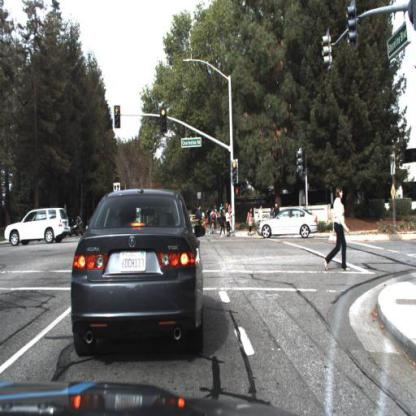biker: (206, 206, 220, 237), (272, 202, 282, 223)
car: (70, 185, 207, 361), (6, 209, 70, 247), (258, 206, 321, 242), (66, 212, 85, 239)
pedestrian: (322, 184, 356, 275), (322, 183, 352, 273), (194, 203, 211, 232), (219, 207, 227, 238), (225, 207, 233, 238), (247, 205, 254, 237), (197, 207, 205, 232)
trafficLight-Red: (159, 105, 168, 136), (231, 159, 241, 186)
trafficLight-RedLeft: (113, 103, 122, 130)
